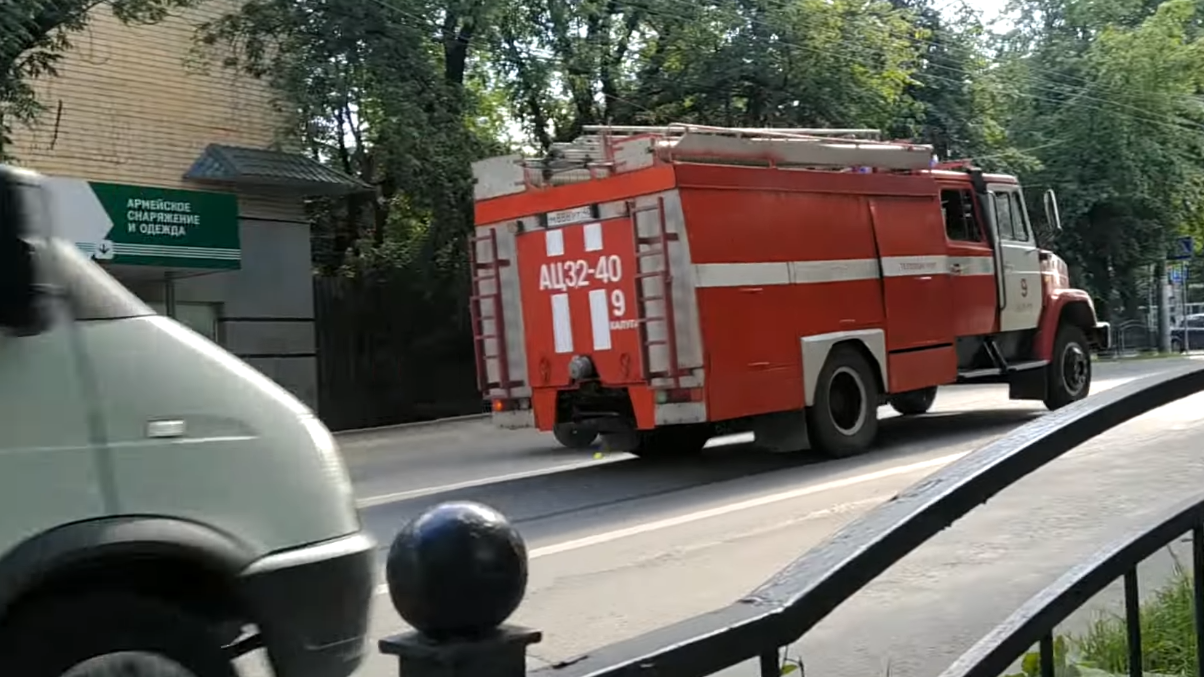fire fighting vehicle: (466, 104, 1101, 458)
non emergency car: (0, 153, 372, 677)
